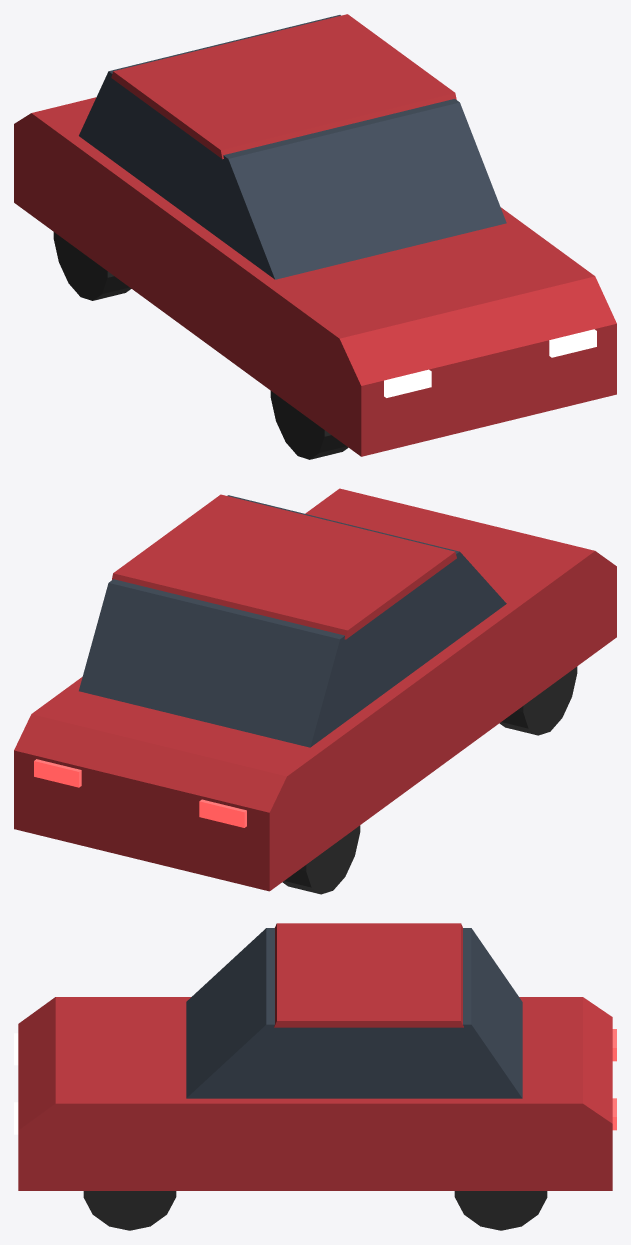
File: car_red.glb
3 views of the same model, one above another, from view 1: azimuth 30°, elevation 25°; view 2: azimuth 150°, elevation 25°; view 3: azimuth 270°, elevation 25° (orthographic). The views are drawn at different scales.
Parts seen in each view (by area): view 1: car_red; view 2: car_red; view 3: car_red.
Boxes of the visible parts, left/top/right/bottom form: car_red: left=14, top=14, right=616, bottom=459; car_red: left=14, top=488, right=616, bottom=894; car_red: left=14, top=923, right=616, bottom=1230.
Bounding box in the file's own units: 1.7 × 1.53 × 4.06.
